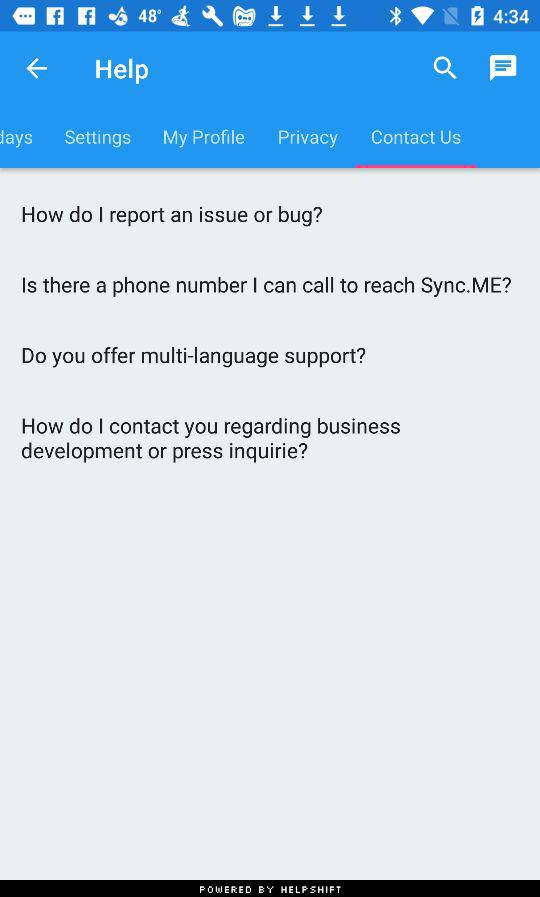Icon: (489, 55, 517, 84), (433, 56, 458, 81), (26, 57, 49, 81)
Text: (22, 417, 401, 464), (23, 277, 512, 298), (22, 347, 366, 369), (22, 206, 323, 228), (164, 129, 246, 150), (371, 129, 462, 146), (96, 58, 150, 86), (65, 130, 132, 149), (278, 130, 339, 150), (200, 886, 342, 894), (1, 130, 34, 149)
UpperTaskBar: (1, 1, 540, 33)
